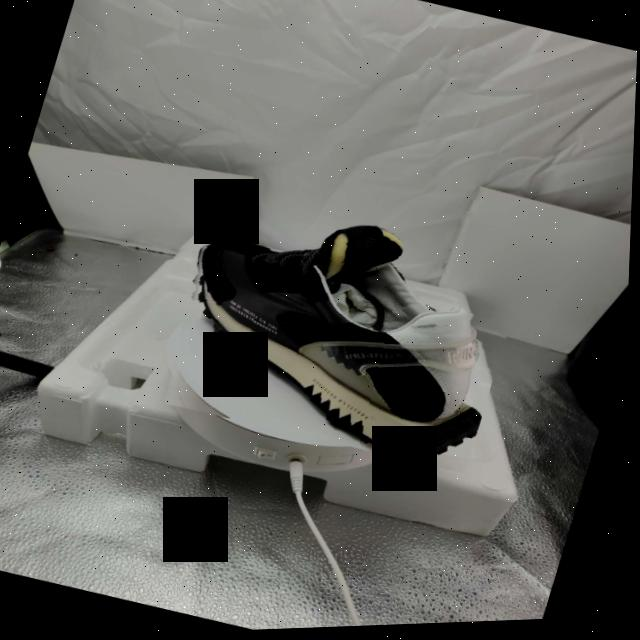shoe: (152, 179, 533, 486)
